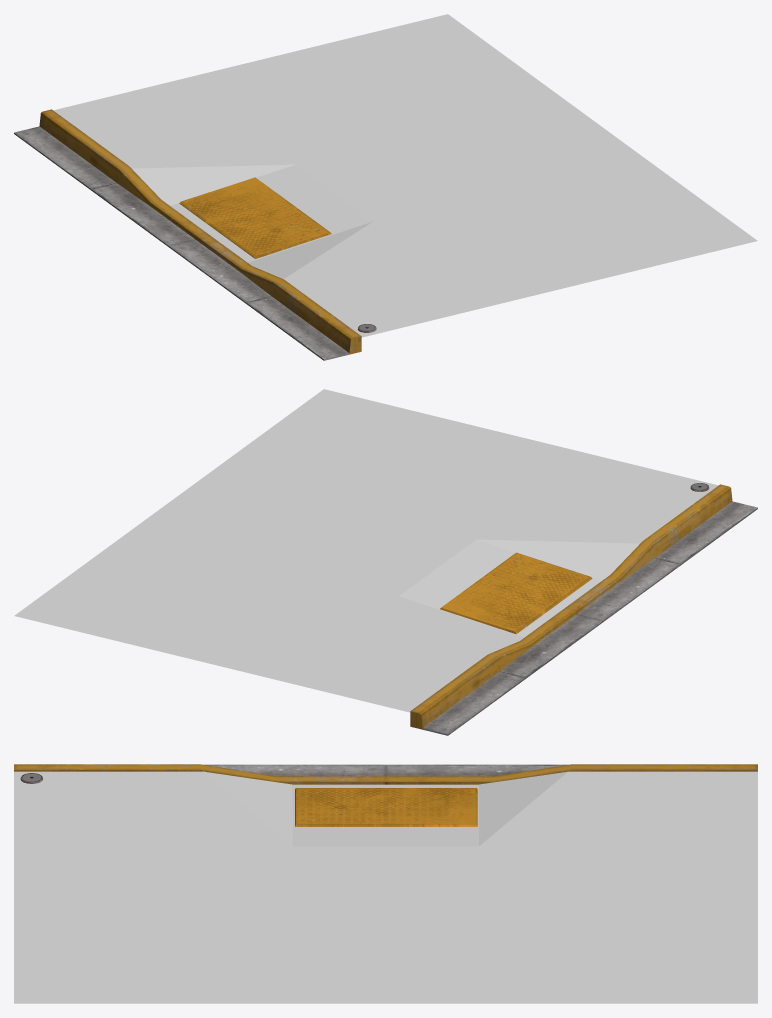
The model's file is MB_Sidewalk_Pedestrian_Crossing.fbx.
3 views of the same model, one above another, from view 1: azimuth 30°, elevation 25°; view 2: azimuth 150°, elevation 25°; view 3: azimuth 270°, elevation 25° (orthographic). The views are drawn at different scales.
Visible parts, largest first — view 1: MB_Sidewalk_Pedestrian_Crossing_LOD0; view 2: MB_Sidewalk_Pedestrian_Crossing_LOD0; view 3: MB_Sidewalk_Pedestrian_Crossing_LOD0.
Boxes of the visible parts, left/top/right/bottom form: MB_Sidewalk_Pedestrian_Crossing_LOD0: left=14, top=14, right=757, bottom=360; MB_Sidewalk_Pedestrian_Crossing_LOD0: left=14, top=389, right=757, bottom=735; MB_Sidewalk_Pedestrian_Crossing_LOD0: left=14, top=764, right=757, bottom=1003.
Size of what is drawn, in the model's own units: 323 by 18.12 by 400.
